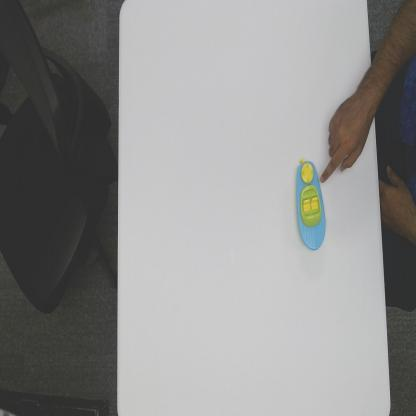Boat: (296, 155, 326, 252)
Hand: (320, 85, 370, 184)
